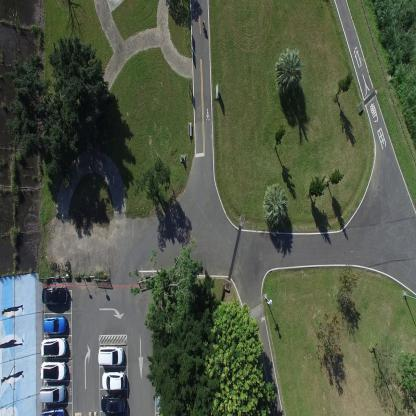car: (97, 345, 125, 367), (40, 360, 67, 382), (41, 336, 68, 358), (100, 393, 126, 415), (39, 382, 66, 403), (43, 314, 68, 334), (42, 287, 68, 306), (101, 370, 125, 390), (40, 405, 66, 415)
